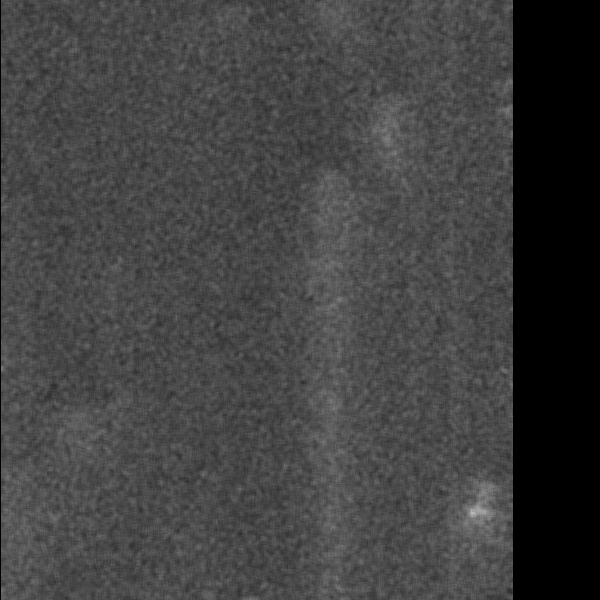spark: (456, 497, 506, 541), (374, 95, 398, 186)
